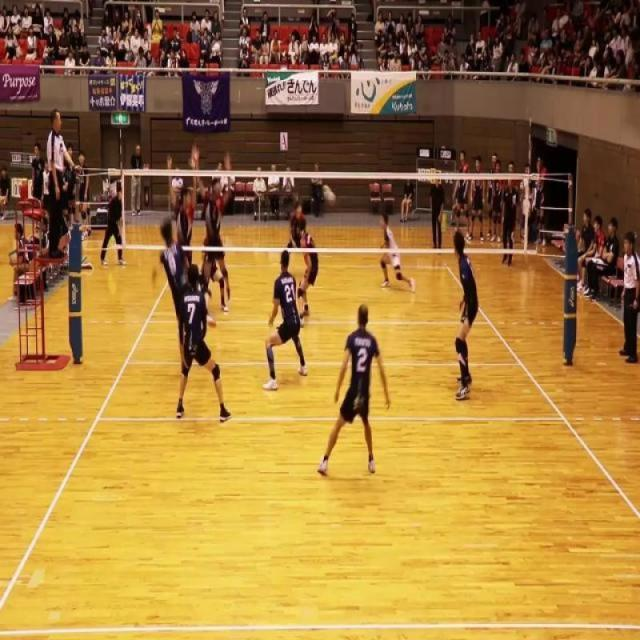volleyball: (322, 184, 336, 206)
